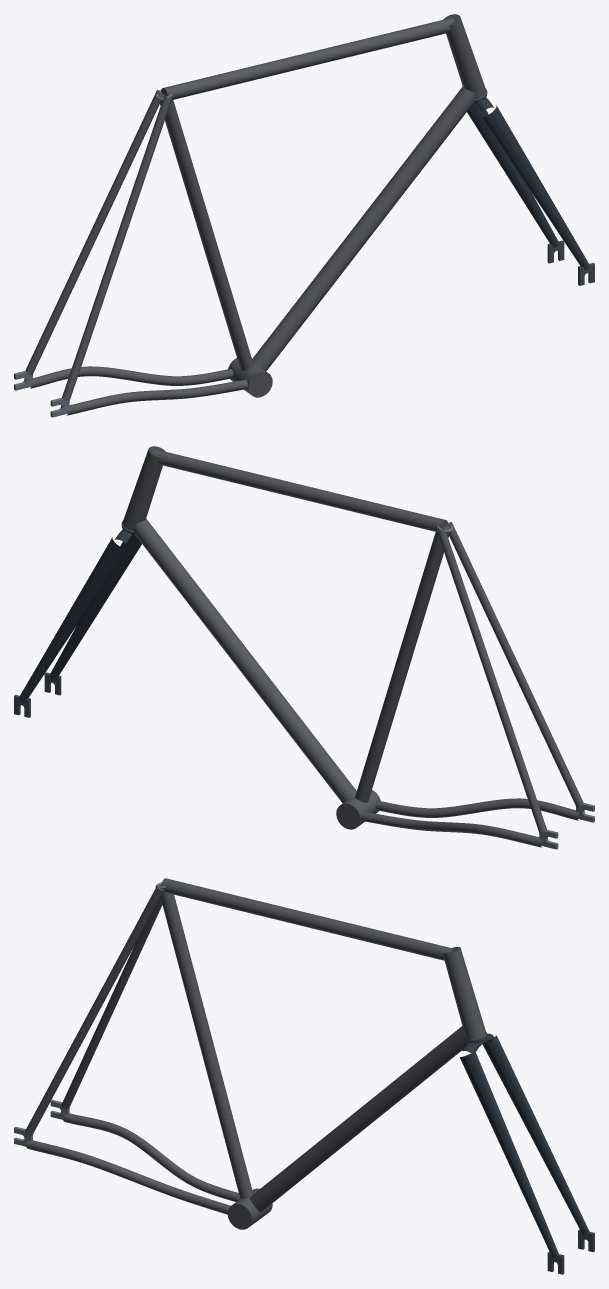
File: wabi-prism-57.glb
3 views of the same model, one above another, from view 1: azimuth 30°, elevation 25°; view 2: azimuth 150°, elevation 25°; view 3: azimuth 330°, elevation 25° (orthographic).
Parts seen in each view (by area): view 1: paint_down, paint_top, paint_seat, paint_seatstay_1, paint_seatstay_-1, fork_blade_1, paint_chainstay_-1, paint_chainstay_1, fork_blade_-1, paint_head, paint_bottom_bracket; view 2: paint_down, paint_top, paint_seat, paint_seatstay_-1, paint_seatstay_1, fork_blade_-1, paint_chainstay_1, paint_chainstay_-1, fork_blade_1, paint_head, paint_bottom_bracket; view 3: paint_down, paint_seat, paint_top, fork_blade_1, fork_blade_-1, paint_seatstay_1, paint_chainstay_1, paint_seatstay_-1, paint_chainstay_-1, paint_head, paint_bottom_bracket.
Part boxes in pixels (x1,y1,x2,y2): paint_down: (252,86,475,371); paint_top: (161,17,454,99); paint_seat: (158,93,253,370); paint_seatstay_1: (62,96,171,401); paint_seatstay_-1: (25,90,161,375); fork_blade_1: (481,105,589,269); paint_chainstay_-1: (30,366,233,388); paint_chainstay_1: (67,379,247,415); fork_blade_-1: (467,104,558,247); paint_head: (443,14,486,99); paint_bottom_bracket: (228,358,272,397); paint_down: (133,518,356,803); paint_top: (154,449,447,531); paint_seat: (355,525,450,802); paint_seatstay_-1: (437,528,546,833); paint_seatstay_1: (447,522,583,807); fork_blade_-1: (19,537,127,701); paint_chainstay_1: (375,798,578,820); paint_chainstay_-1: (361,811,541,847); fork_blade_1: (50,536,141,679); paint_head: (122,446,165,531); paint_bottom_bracket: (336,790,380,829); paint_down: (249,1026,467,1211); paint_seat: (160,884,253,1198); paint_top: (161,878,454,960); fork_blade_1: (460,1051,558,1257); fork_blade_-1: (482,1035,589,1235); paint_seatstay_1: (25,885,163,1135); paint_chainstay_1: (26,1140,230,1214); paint_seatstay_-1: (61,897,162,1109); paint_chainstay_-1: (63,1113,240,1201); paint_head: (442,947,486,1039); paint_bottom_bracket: (227,1188,272,1229).
Bounding box in the file's own units: 1.03 × 0.5828 × 0.1396.
